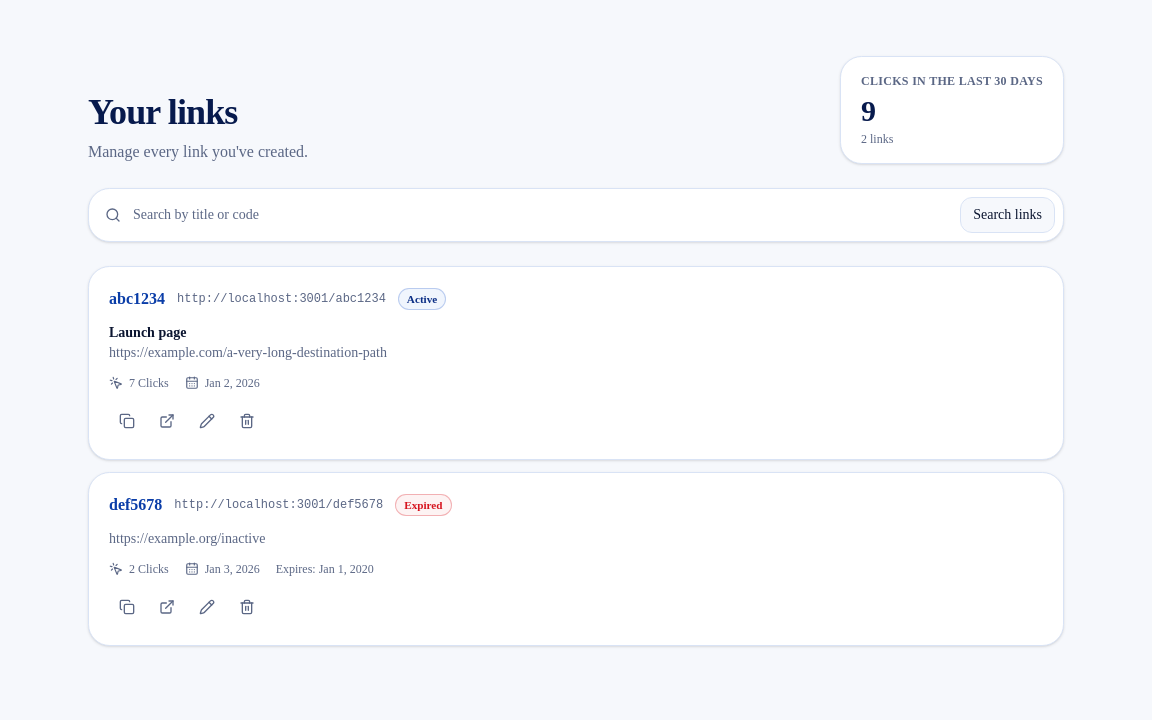
Test case: LinksView › deletes a link after confirmation
The width and height of the screenshot is (1152, 720).
Click the button named "Delete: abc1234" at (247, 421), box 229,403 -> 265,439
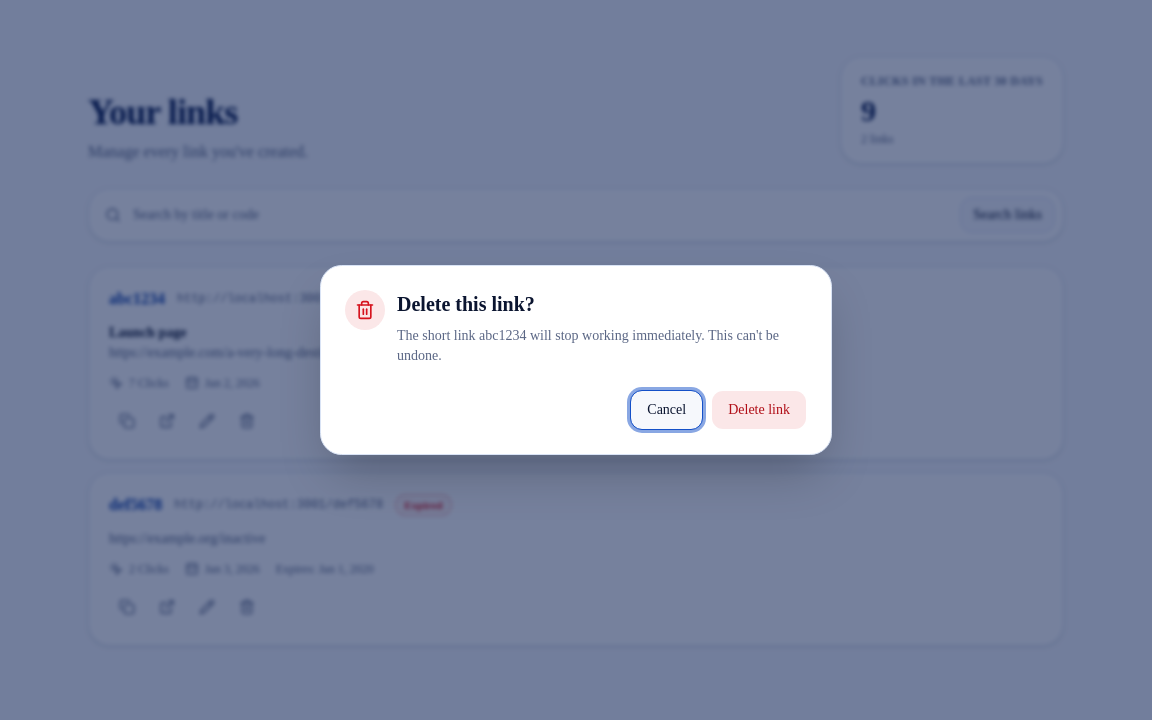
Expected: the dialog shows "The short link abc1234 will stop working immediately.", 397,328 -> 779,363
Click the button "Delete link" at (759, 410), box 711,390 -> 807,430
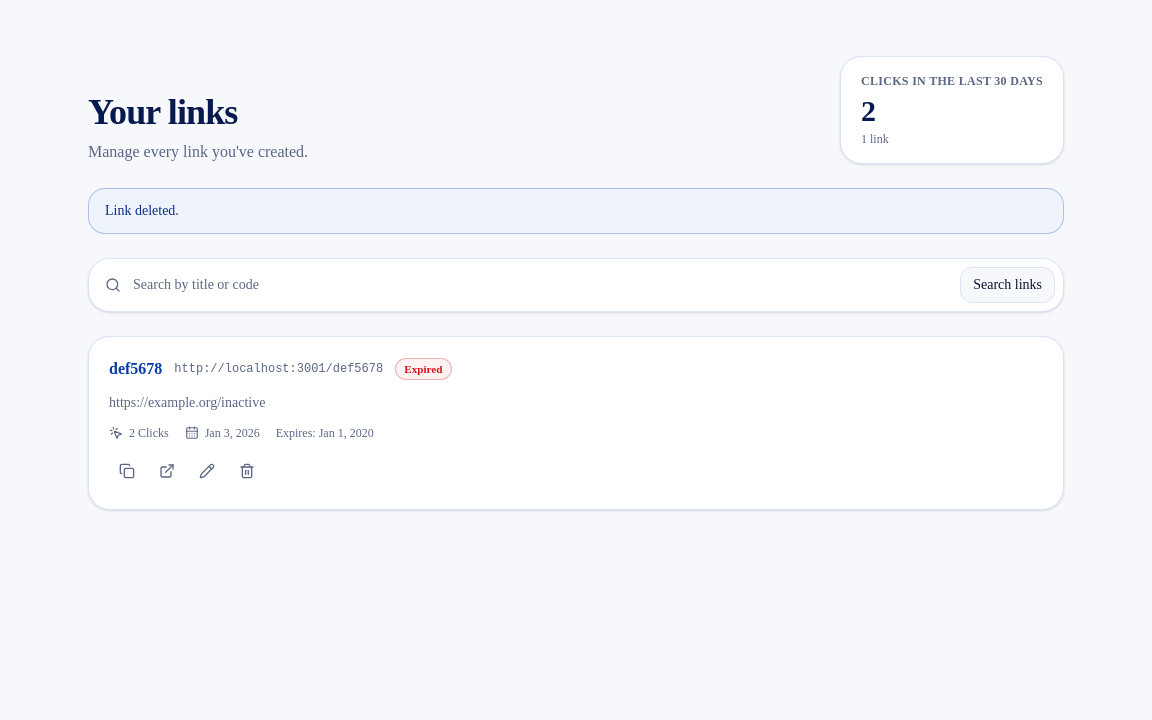
Expected: the text "Link deleted." is shown, 88,188 -> 1064,234
